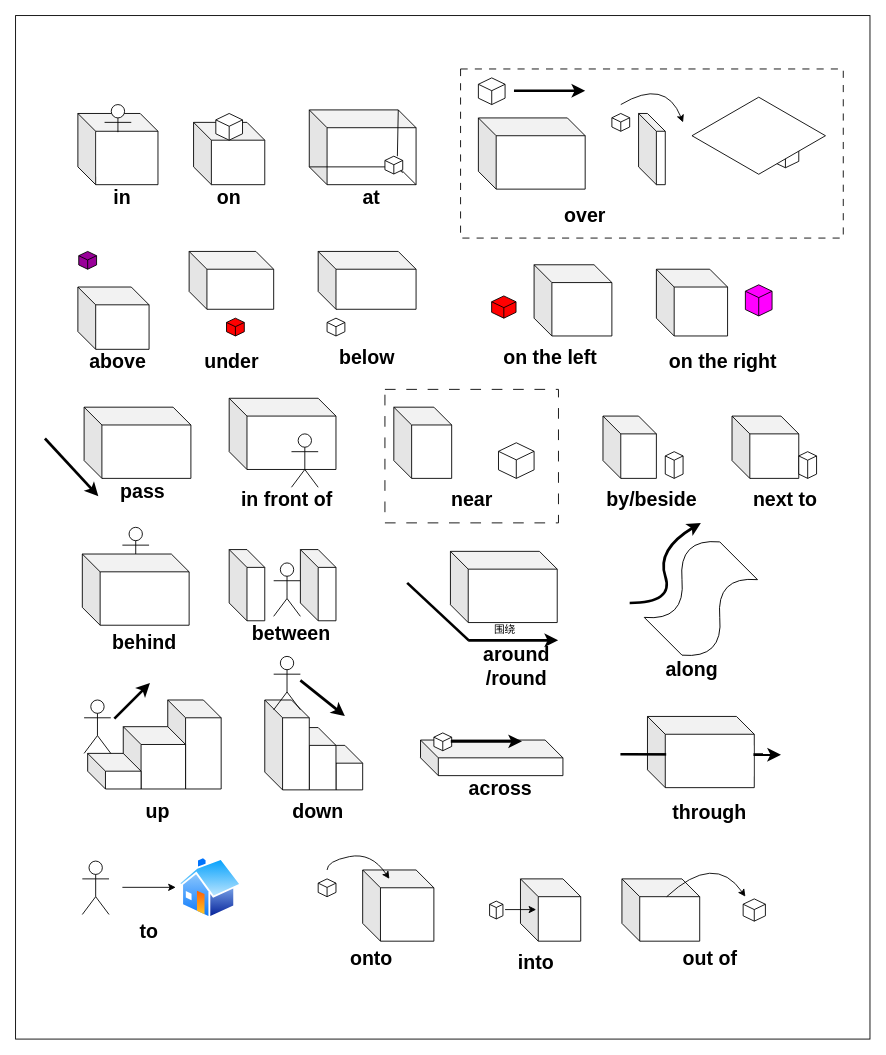
The diagram is 886 pixels wide and 1055 high, and some of its shapes have lost their labels. Here are the shapes that lost their labels. From the top down, the centre of each, then its label:
[758,135]: 覆盖
[700,598]: 沿着
